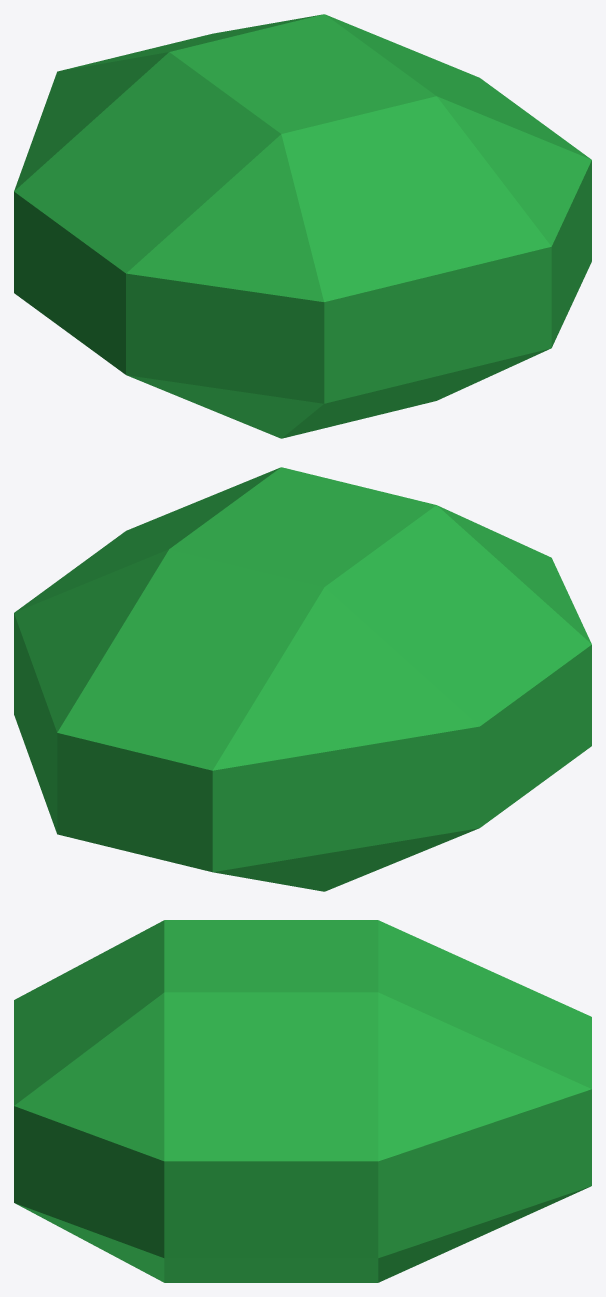
Rendered from esmeralda.fbx.
3 views of the same model, one above another, from view 1: azimuth 30°, elevation 25°; view 2: azimuth 150°, elevation 25°; view 3: azimuth 270°, elevation 25° (orthographic). The views are drawn at different scales.
Visible parts, largest first — view 1: Cube; view 2: Cube; view 3: Cube.
Boxes of the visible parts, bbox=[...] form: Cube: bbox=[14, 14, 591, 438]; Cube: bbox=[14, 467, 591, 891]; Cube: bbox=[14, 920, 591, 1282].
Size of the model in its own units: 32 by 20 by 36.05.
